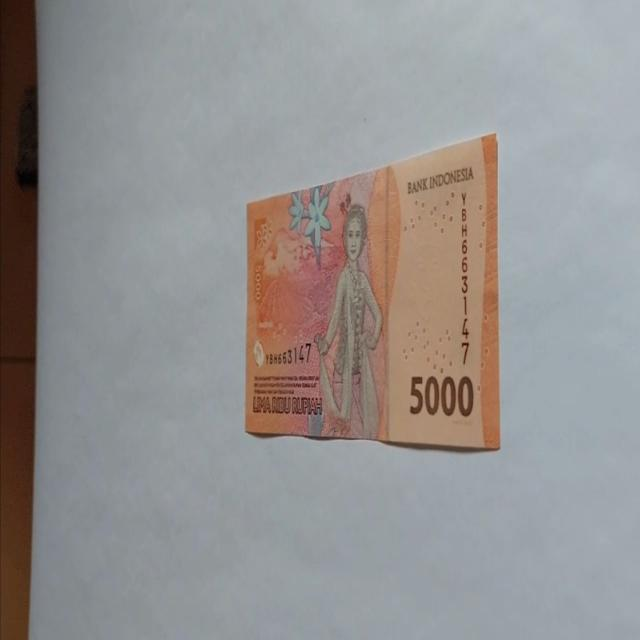lima ribu rupiah: (244, 130, 500, 452), (312, 203, 384, 439)
